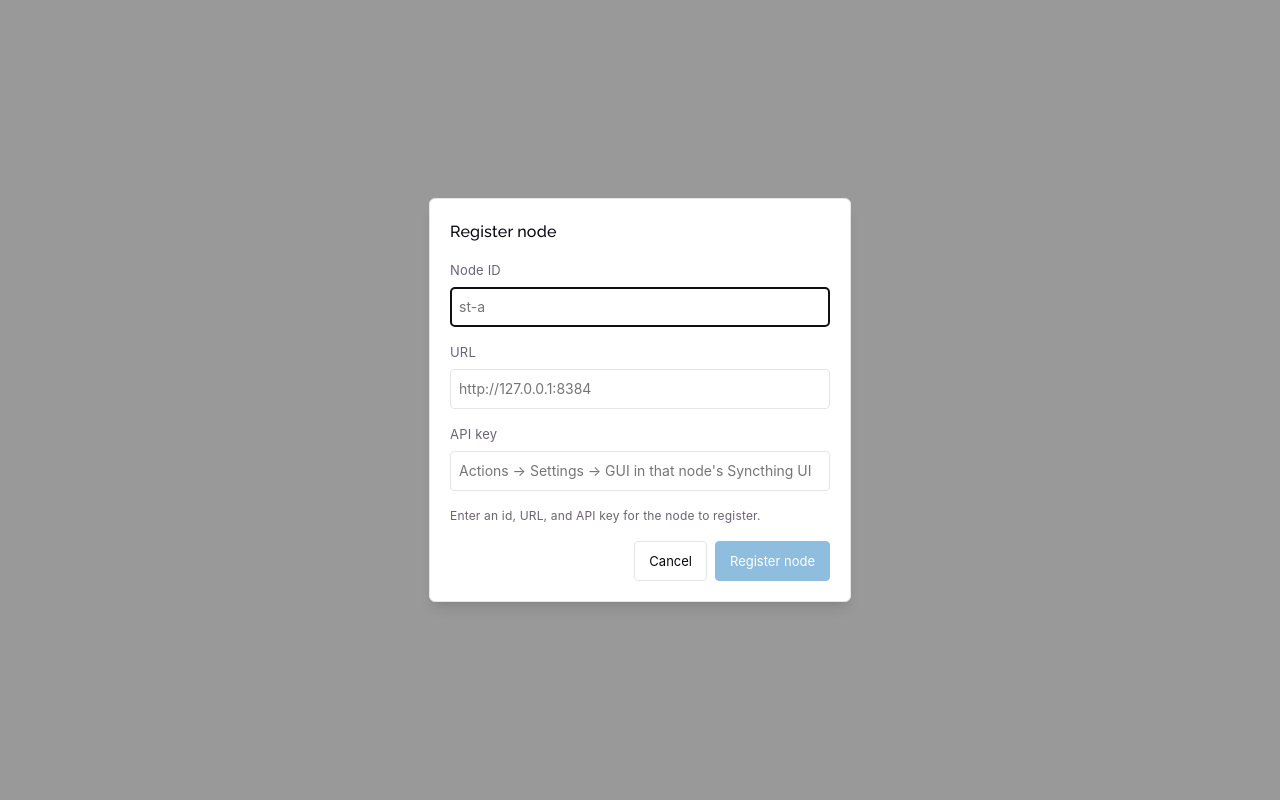
RegisterNodeDialog › disables Register node until id, url, and apiKey are all filled in
Expected: the button "Register node" is disabled, [715,541,830,581]
In the field with placeholder "st-a": (640, 307) [450,287,830,327], type "st-c"
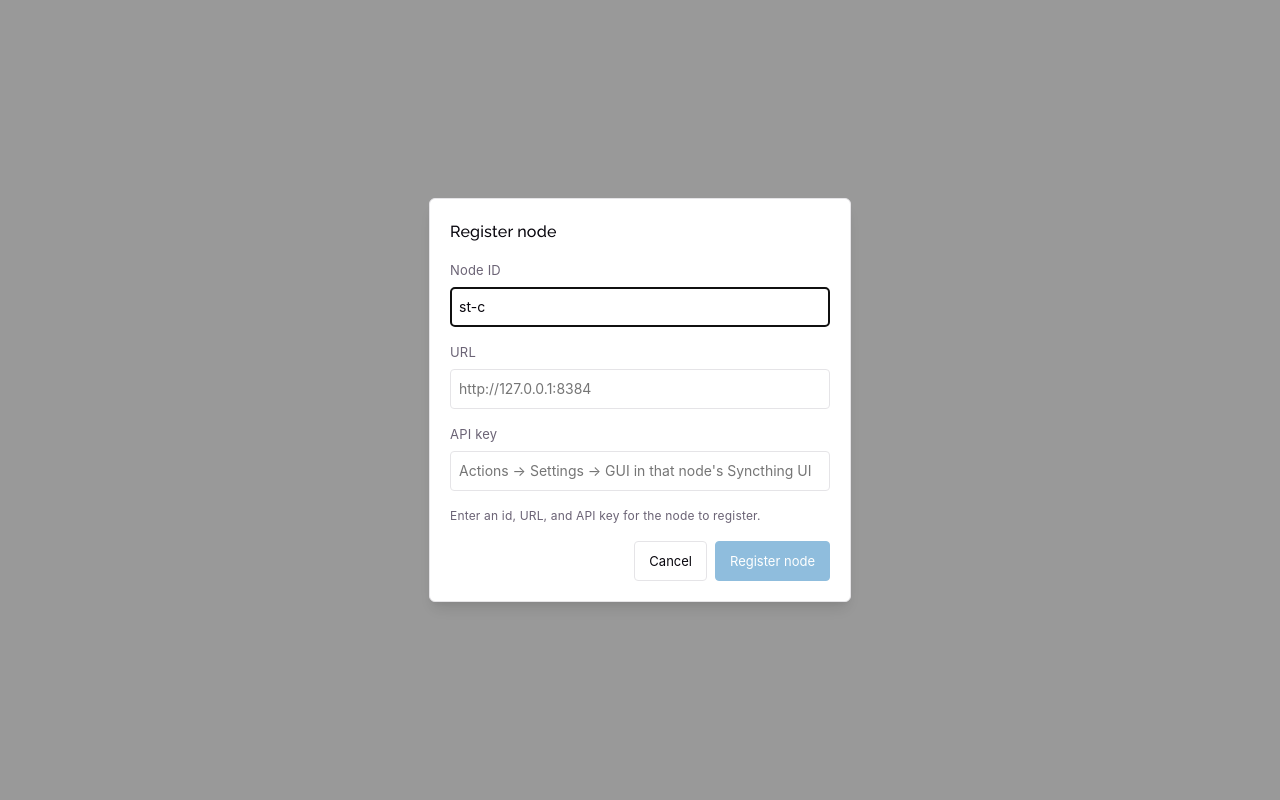
Expected: the button "Register node" is disabled, [715,541,830,581]
In the field with placeholder "http://127.0.0.1:8384": (640, 389) [450,369,830,409], type "http://127.0.0.1:38384"
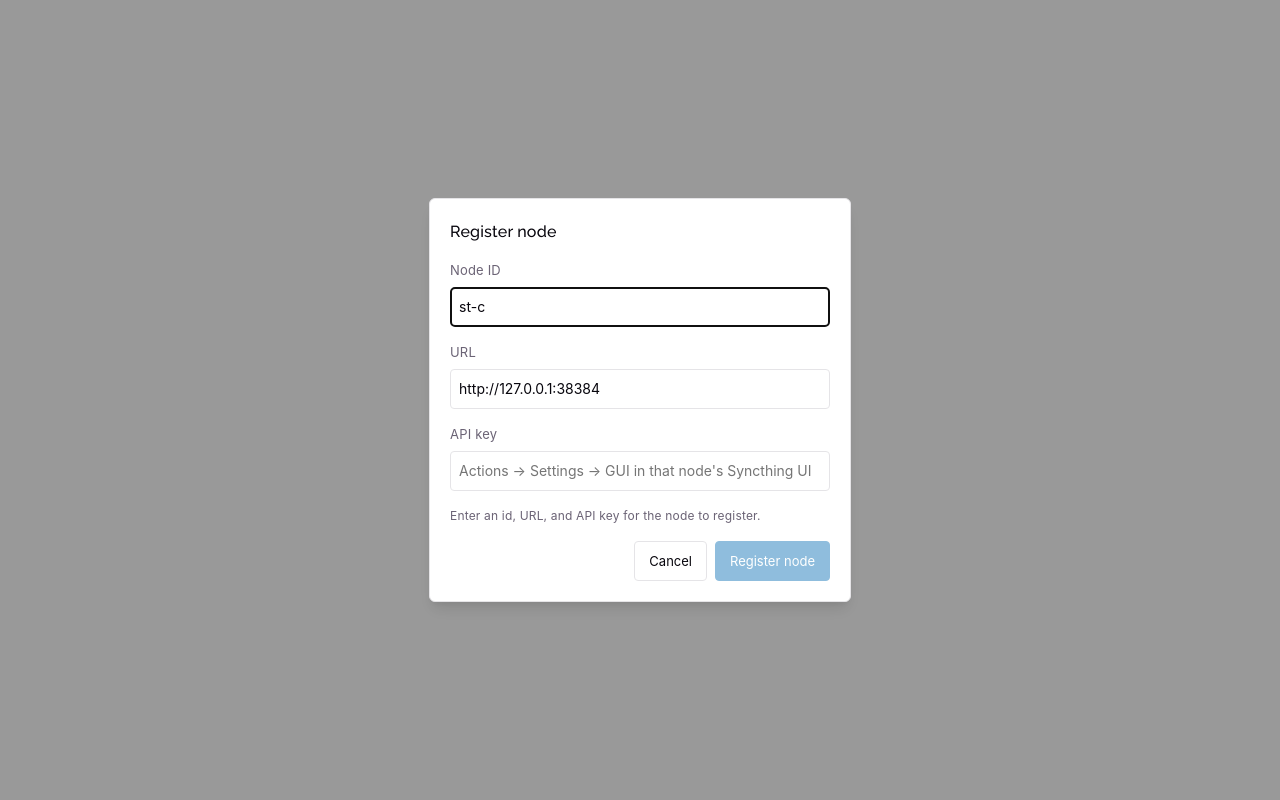
Expected: the button "Register node" is disabled, [715,541,830,581]
In the password field with placeholder "Actions → Settings → GUI in that node's Syncthing UI": (640, 471) [450,451,830,491], type "the-api-key"
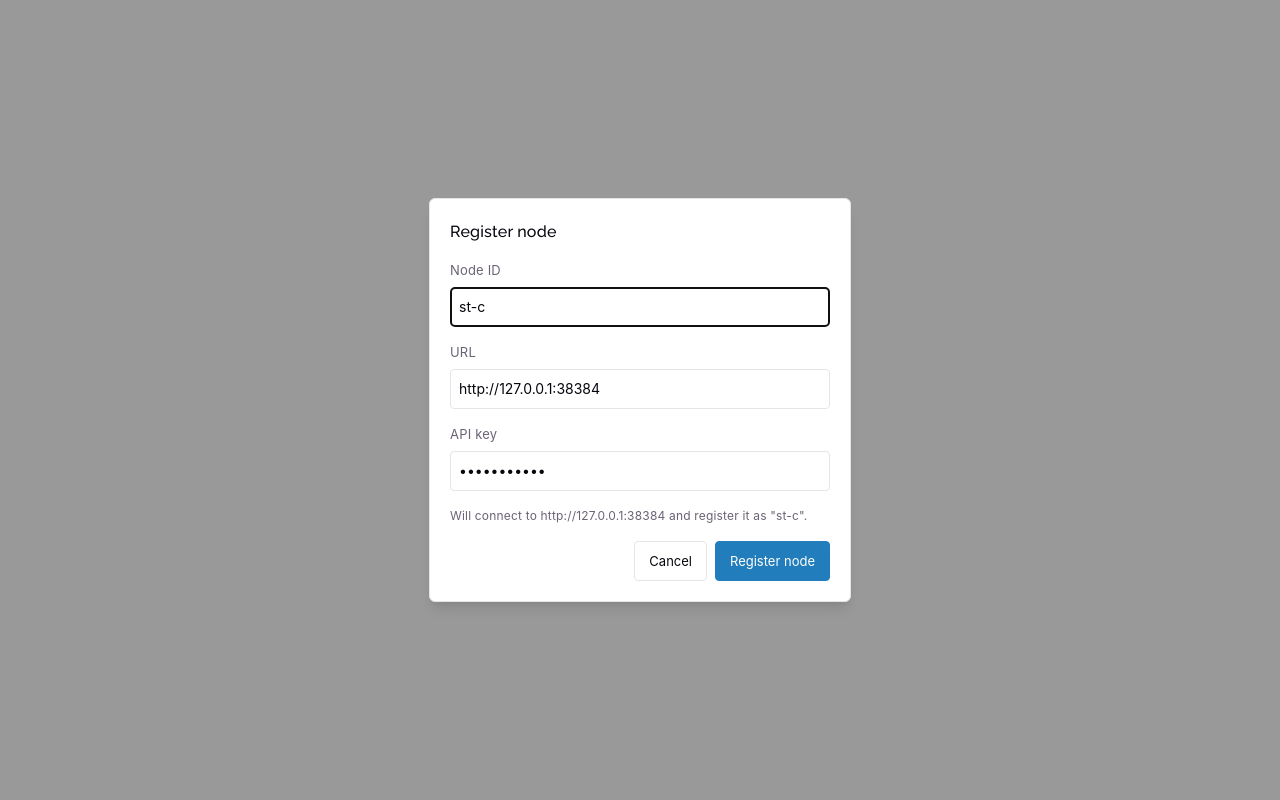
Now the button "Register node" is enabled, box [715,541,830,581]
